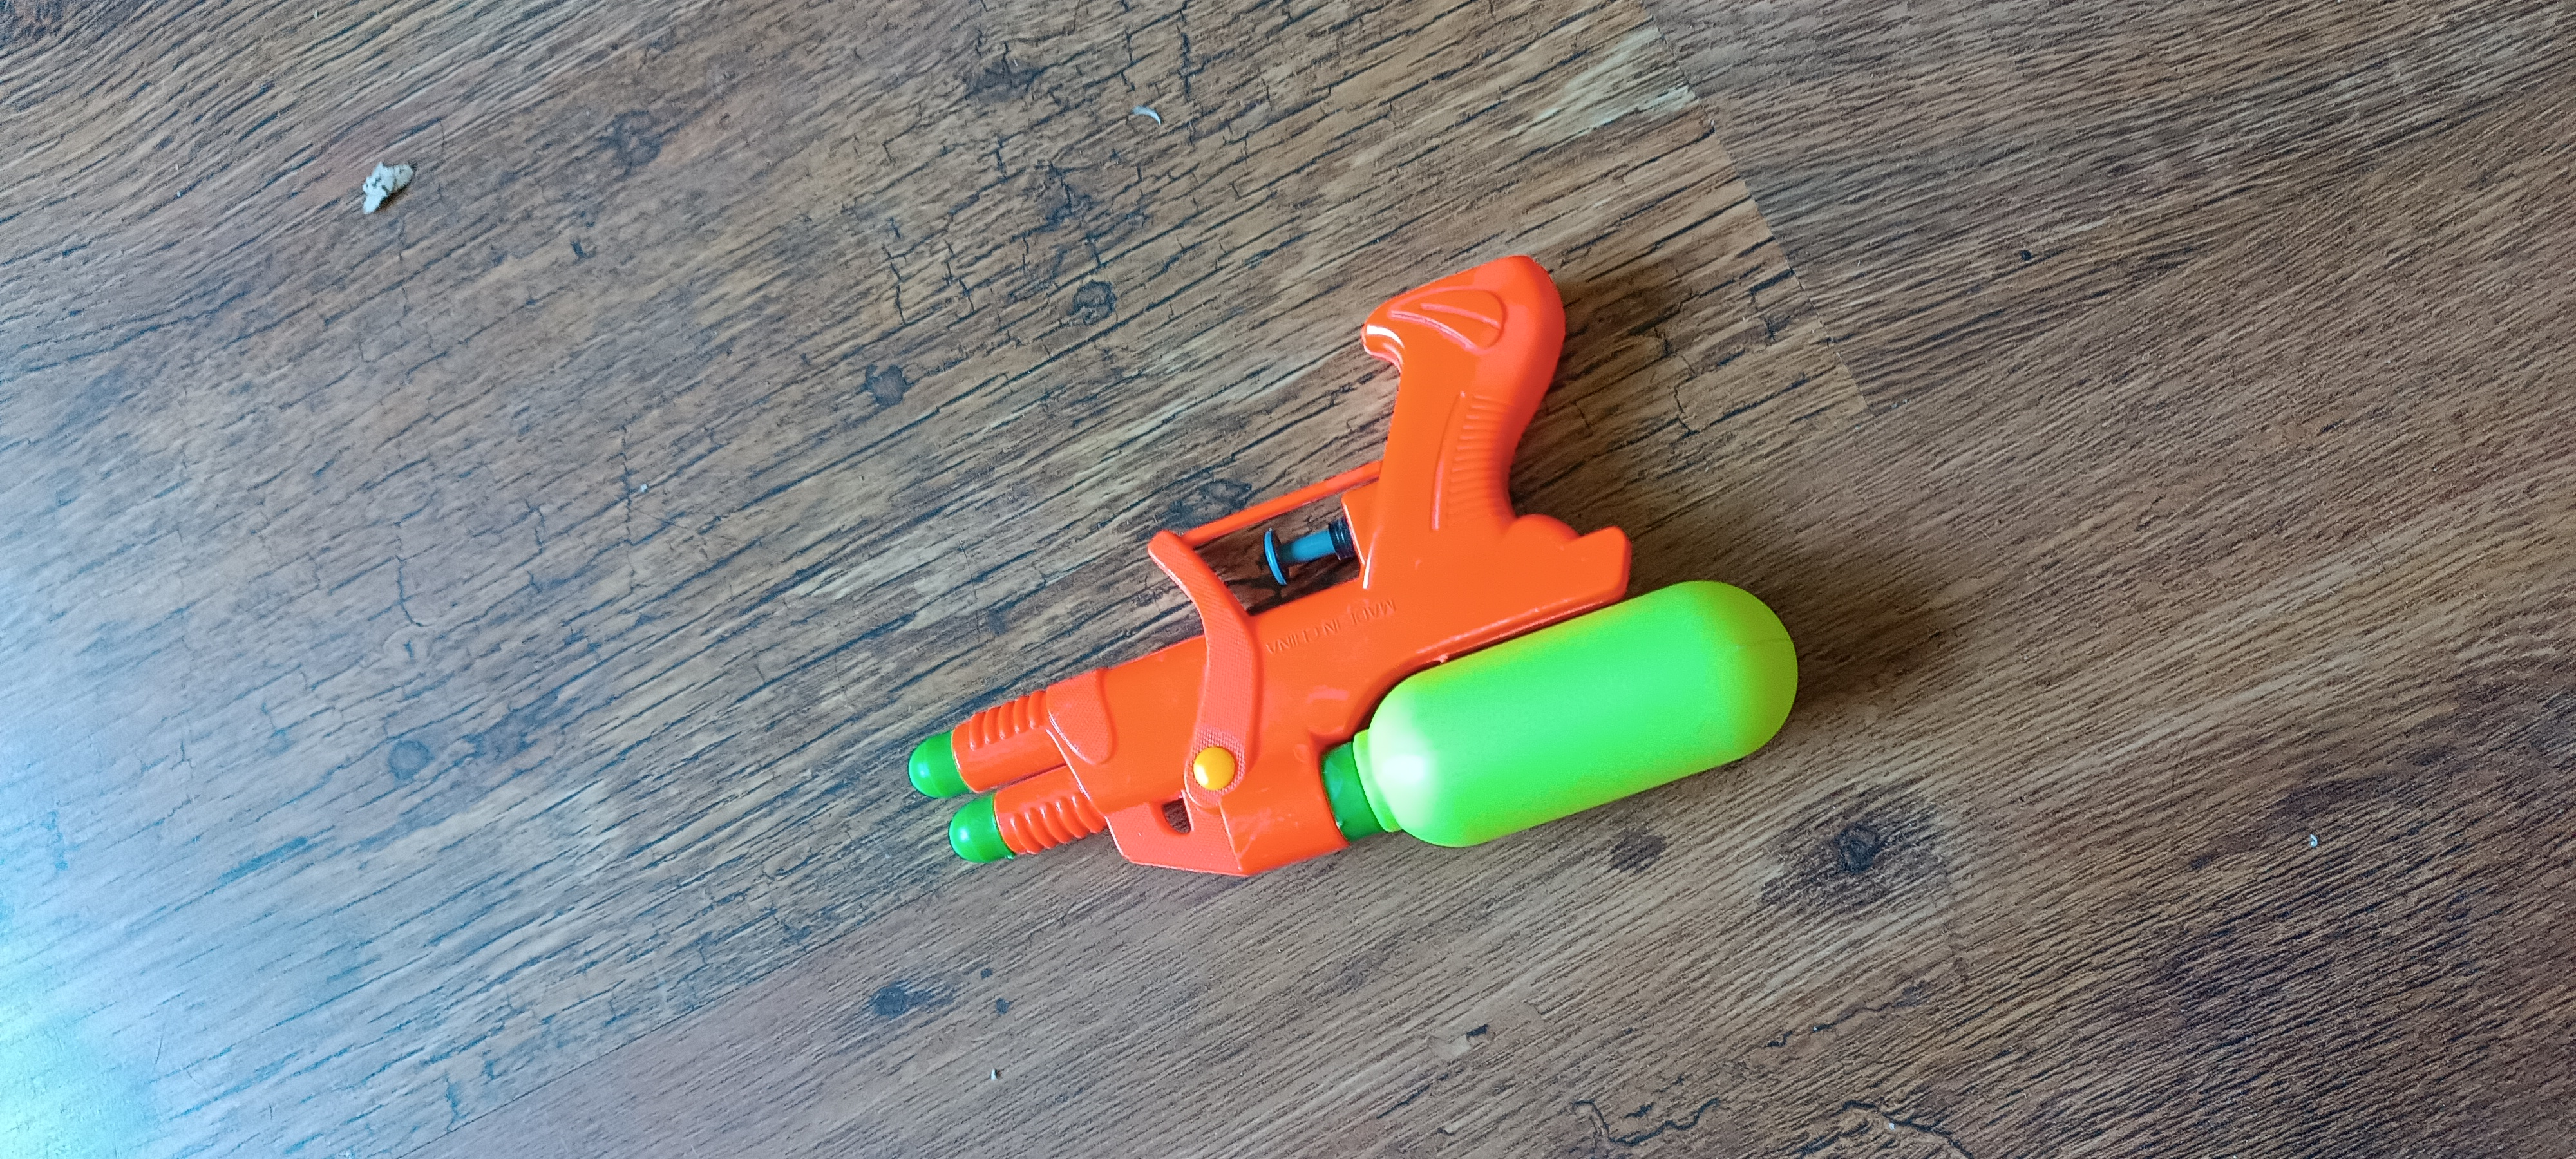Water Gun: (910, 254, 1801, 878)
